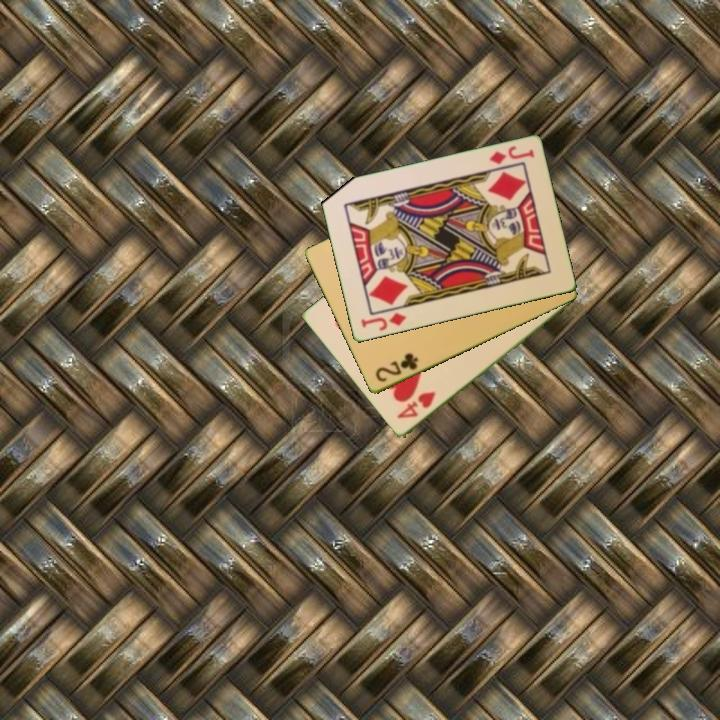2c: (372, 350, 421, 385)
4h: (393, 388, 439, 422)
Jd: (485, 142, 537, 168), (357, 309, 409, 334)
